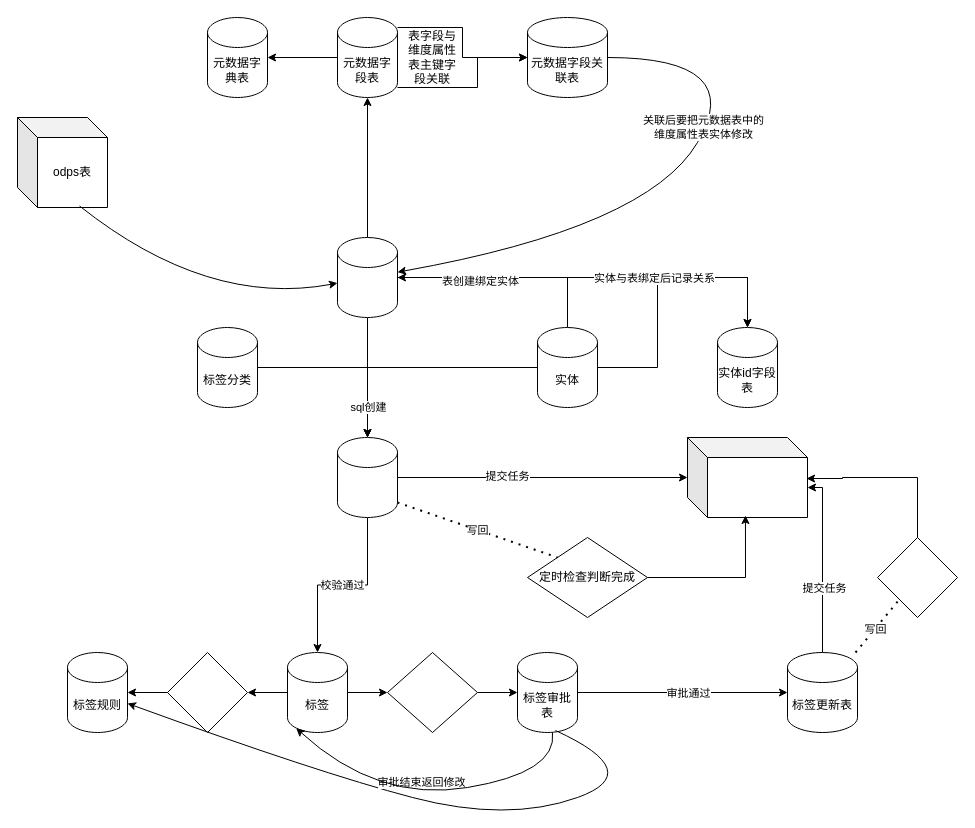
Image size: 975x828. Some labels were removed from this diagram. Here are the shapes that lost their labels. From the top down, the centre of each, then its label:
At (367,277): "元数据表".
At (367,477): "标签校验记录表".
At (747,477): "datawroks任务".
At (917,577): "定时获取更新结果".
At (207,692): "通过规则生成".
At (432,692): "导入或者 规则申请上线".
